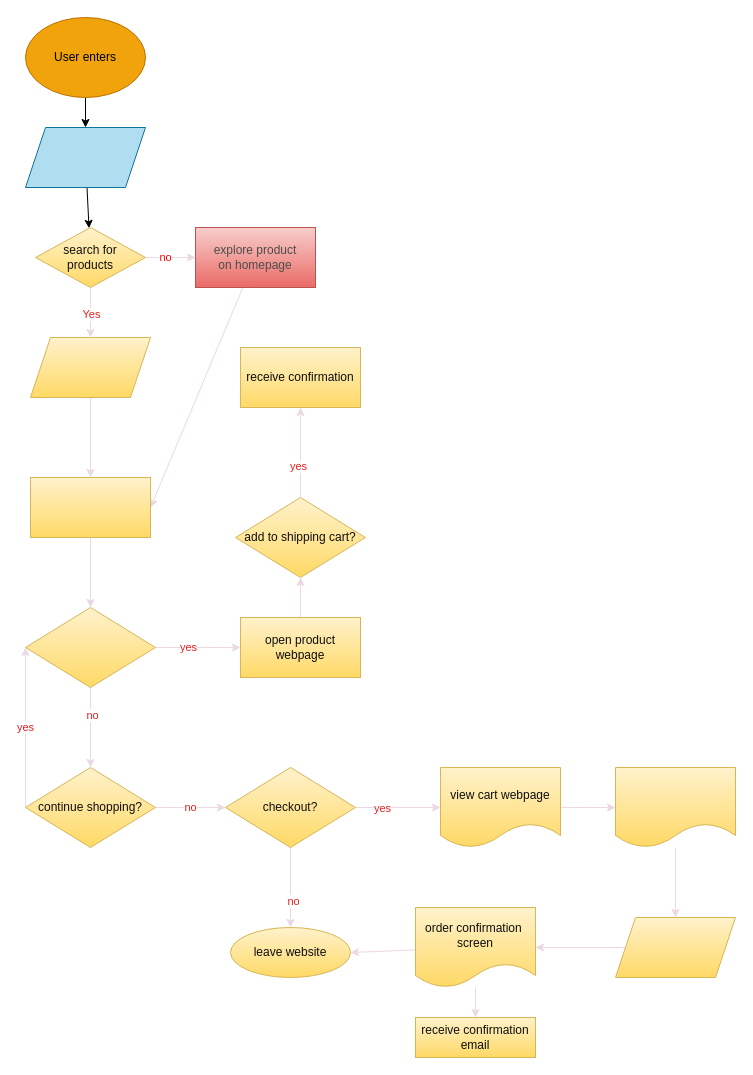
The diagram is 753 pixels wide and 1075 high, and some of its shapes have lost their labels. Here are the shapes that lost their labels. From the top down, the centre of each, then its label:
point (85, 157): Home page loaded
point (90, 367): provide search prompt
point (90, 507): user look over products
point (90, 647): view a product?
point (675, 807): view payment
point (675, 947): input payment method
